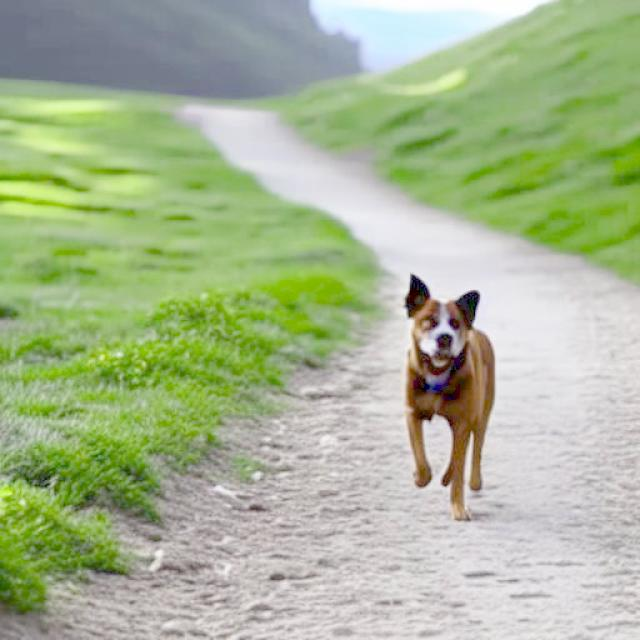Dog: (404, 273, 496, 521)
